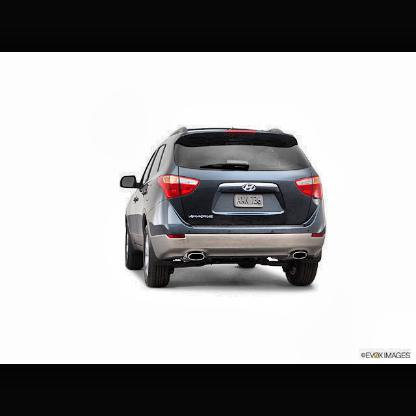Hyundai Veracruz SUV 2012: (120, 127, 329, 292)
